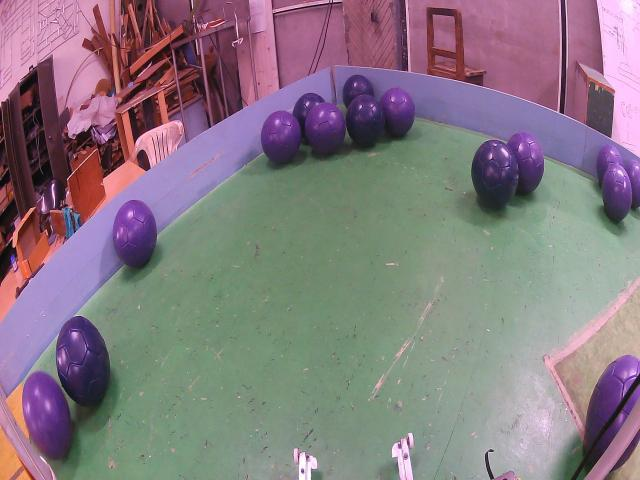jambhalya: (584, 355, 640, 449), (22, 372, 72, 458), (112, 200, 158, 267), (508, 132, 544, 193), (305, 102, 346, 155), (261, 110, 301, 163), (601, 163, 632, 222), (380, 87, 415, 137), (596, 145, 622, 187), (625, 160, 640, 210)
kaalyya: (56, 317, 110, 405), (471, 140, 519, 208), (345, 95, 385, 147), (292, 93, 324, 139), (342, 75, 374, 108)
